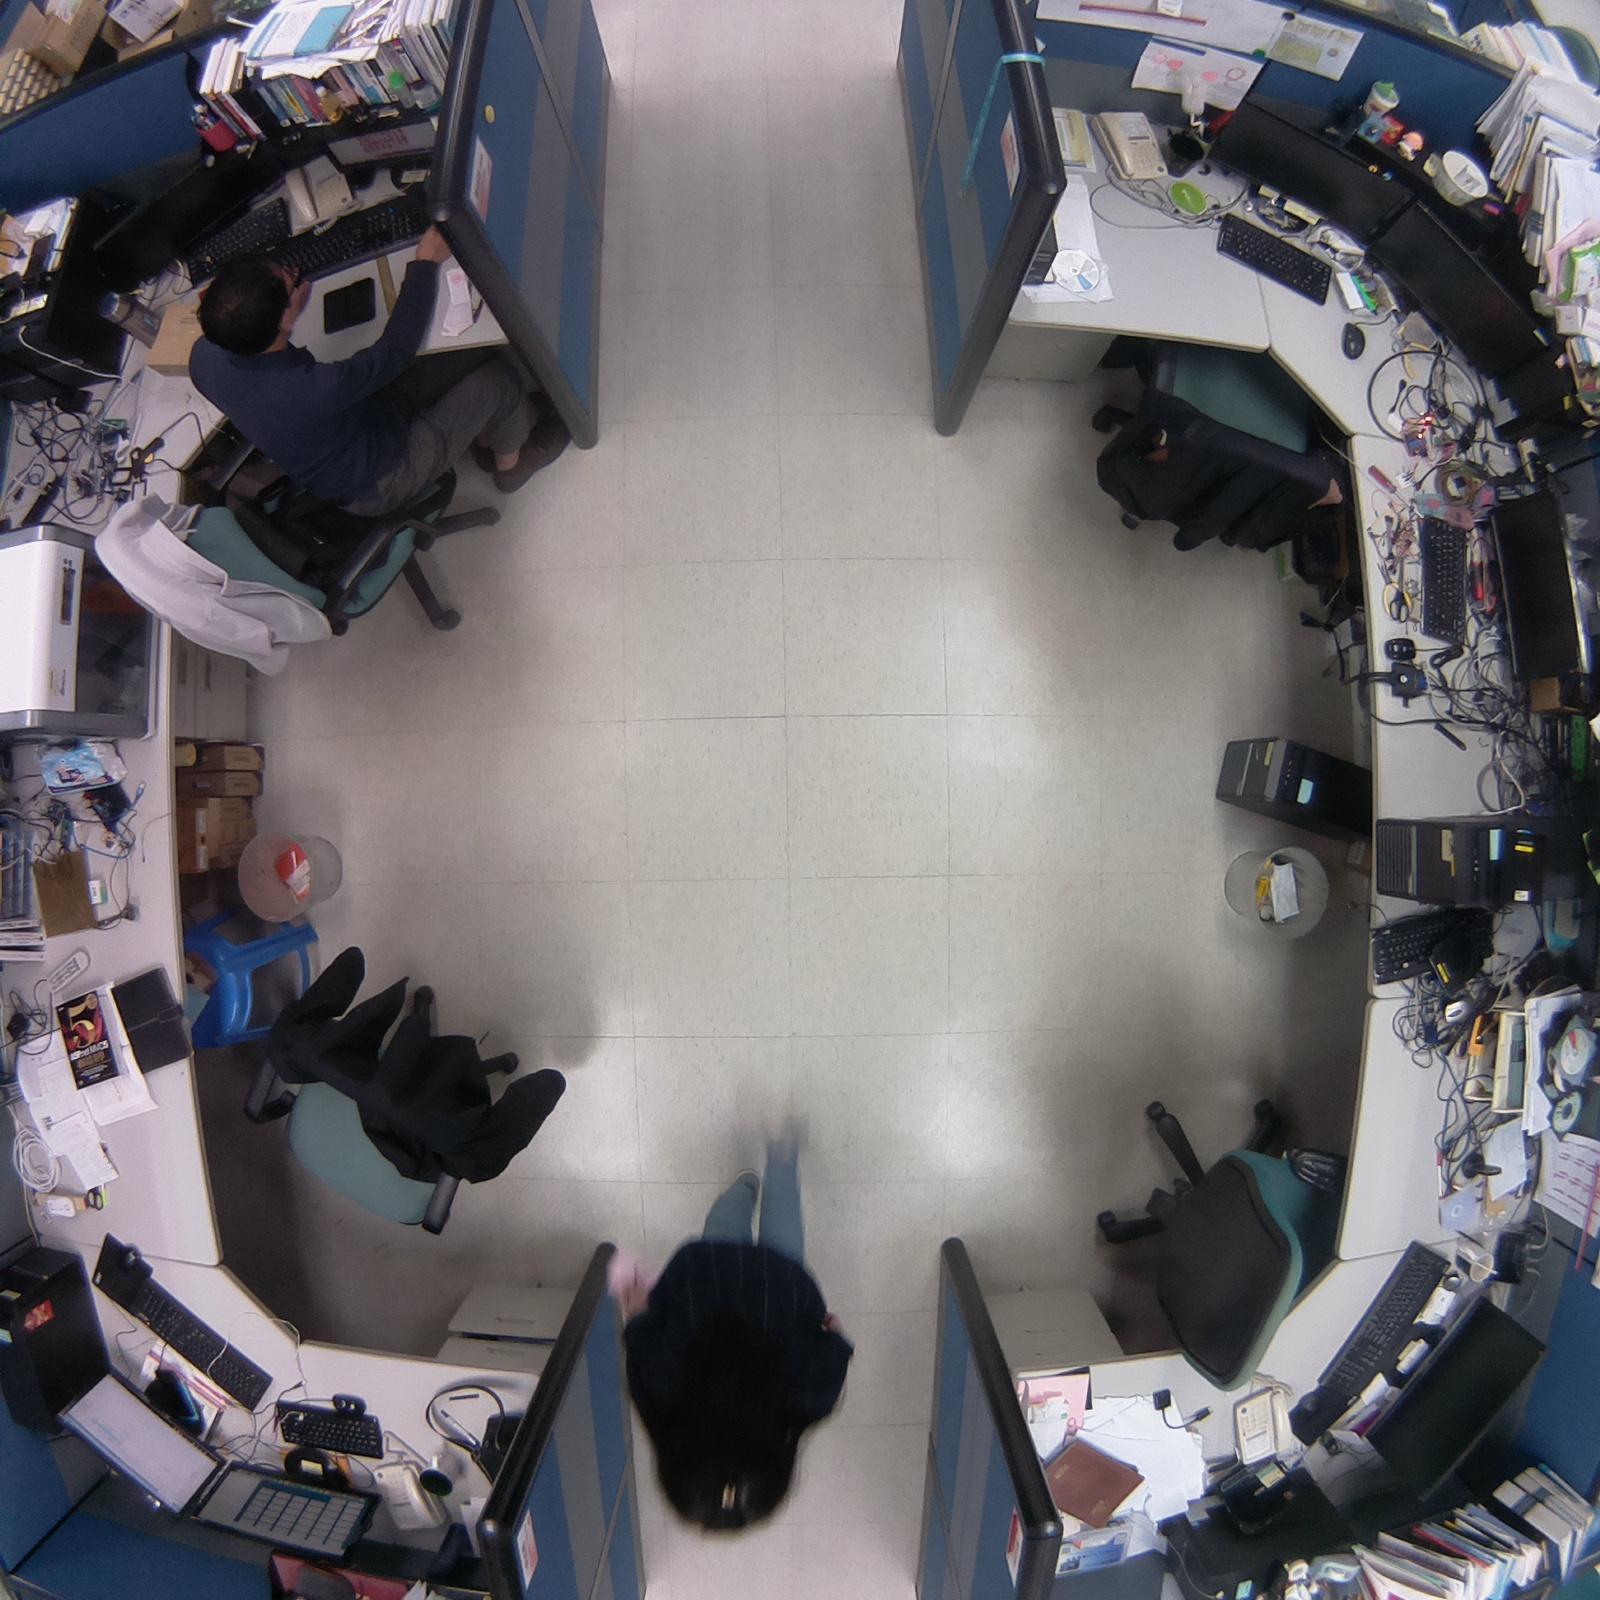chair: (229, 924, 591, 1255), (1083, 1075, 1353, 1404), (1078, 309, 1355, 573)
head: (642, 1363, 812, 1544), (185, 248, 315, 359)
sitting: (81, 249, 583, 686)
walking: (596, 1091, 876, 1554)
